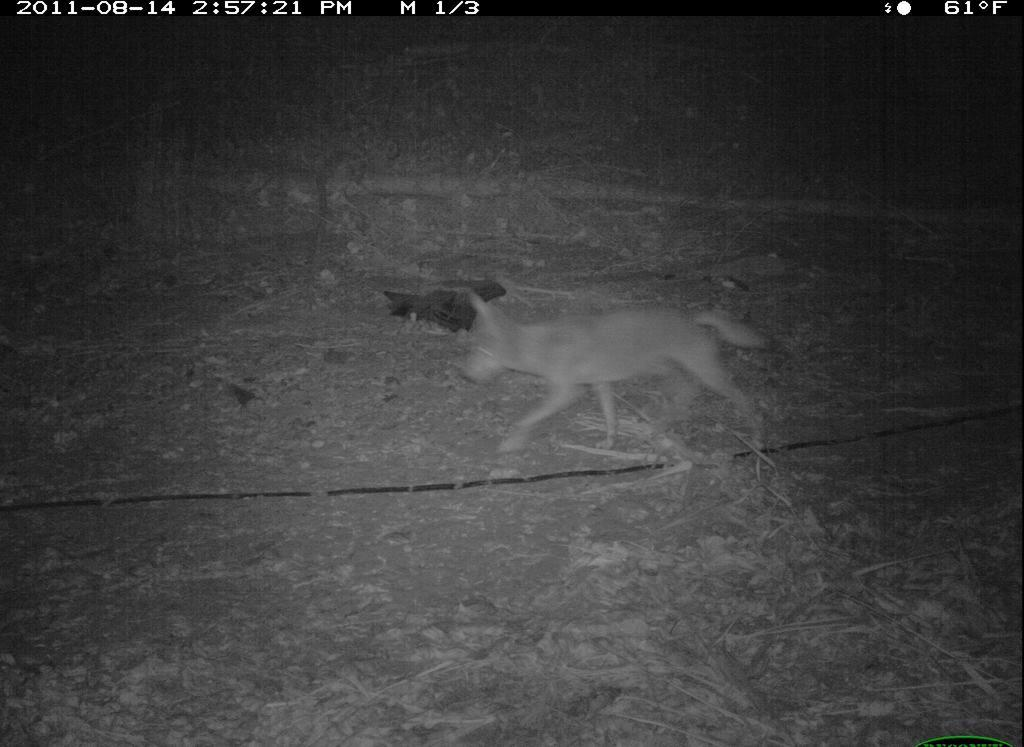coyote: (450, 283, 783, 473)
